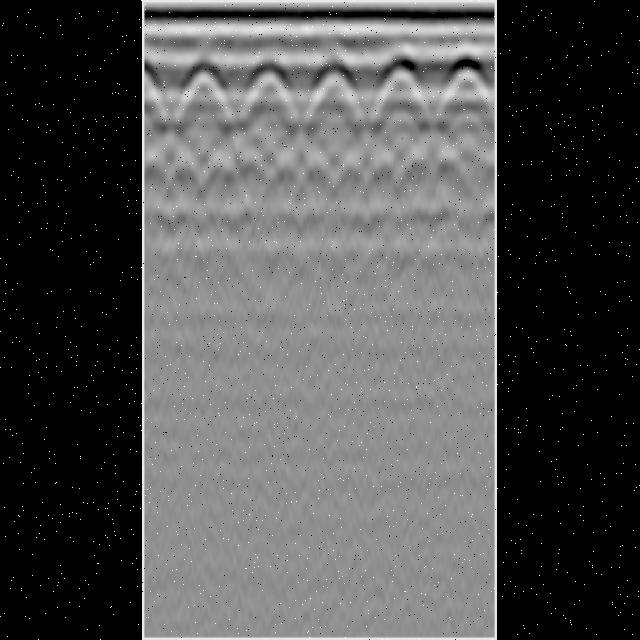hyperbola: (171, 64, 243, 128), (370, 58, 438, 124), (243, 55, 303, 128), (302, 65, 368, 129), (439, 64, 496, 126)
